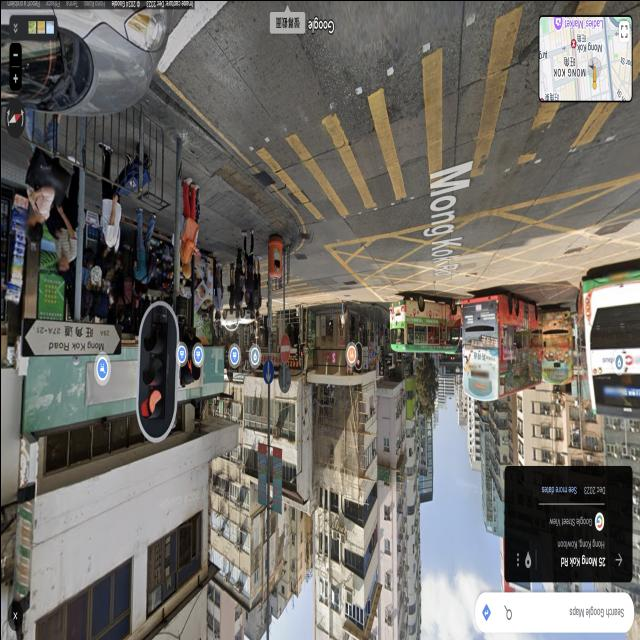Order-Sign: (262, 358, 274, 384), (280, 332, 290, 362)
Street-Direction-Sign: (20, 316, 121, 355)
